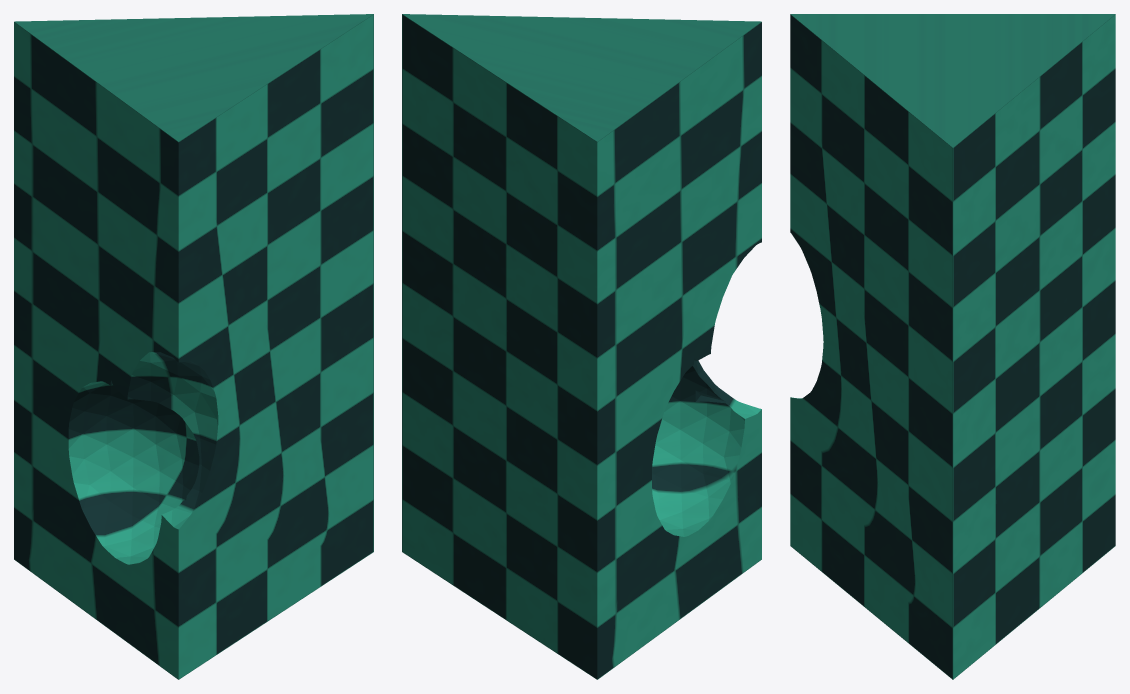
3 views of the same model, side by side, from view 1: azimuth 30°, elevation 25°; view 2: azimuth 150°, elevation 25°; view 3: azimuth 270°, elevation 25° (orthographic).
Parts seen in each view (by area): view 1: geometry_0; view 2: geometry_0; view 3: geometry_0.
Boxes of the visible parts, x1=… form: geometry_0: x1=14, y1=14, x2=373, y2=679; geometry_0: x1=402, y1=14, x2=761, y2=679; geometry_0: x1=790, y1=14, x2=1115, y2=679.
Bounding box in the file's own units: 1.2 × 2.22 × 1.23.
1 material, 1 textured.
